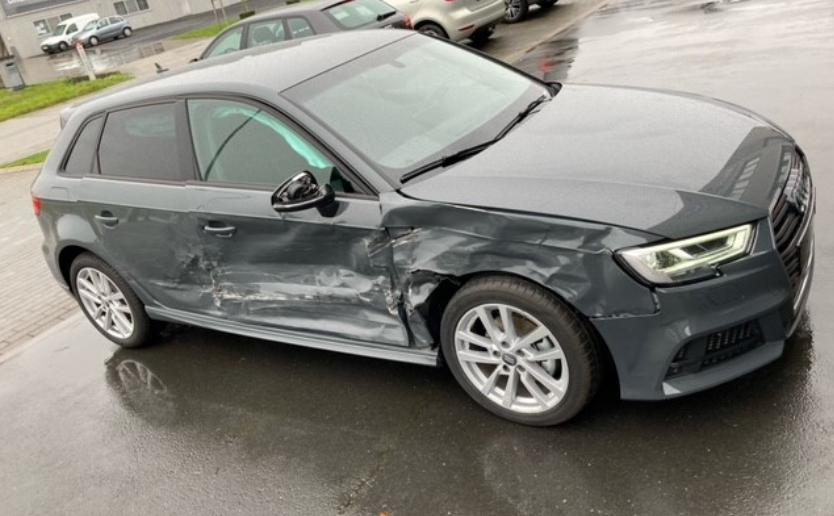Back-door: (79, 103, 224, 314)
Back-wheel: (70, 255, 162, 346)
Back-window: (99, 105, 175, 176), (60, 119, 99, 174)
Fender: (376, 192, 657, 347)
Front-bumper: (590, 216, 816, 400)
Front-door: (176, 98, 410, 344)
Front-wheel: (443, 278, 605, 427)
Front-window: (191, 106, 349, 191)
Grille: (769, 150, 812, 291)
Headlight: (616, 224, 752, 282)
Hood: (397, 85, 790, 237)
Mirror: (271, 174, 338, 215)
Quarter-panel: (31, 175, 157, 305)
Rocker-panel: (144, 306, 436, 363)
Roof: (63, 29, 414, 122)
Tail-light: (30, 192, 39, 214)
Windshield: (281, 32, 546, 184)
